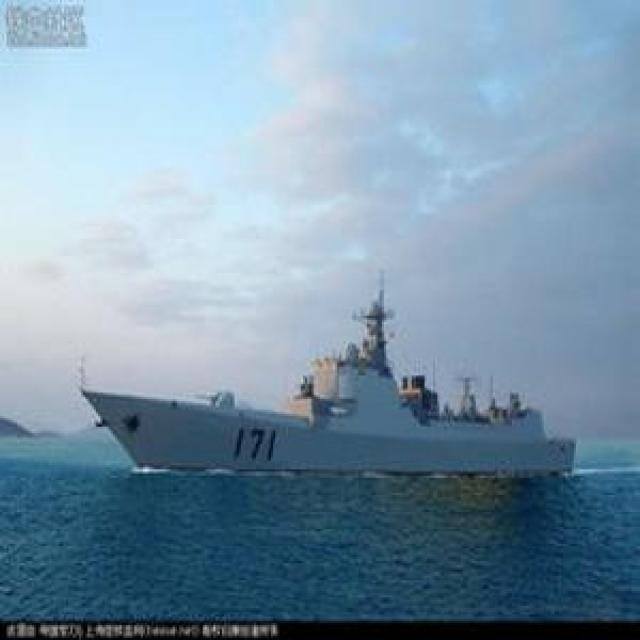navalvessels: (83, 268, 582, 507)
